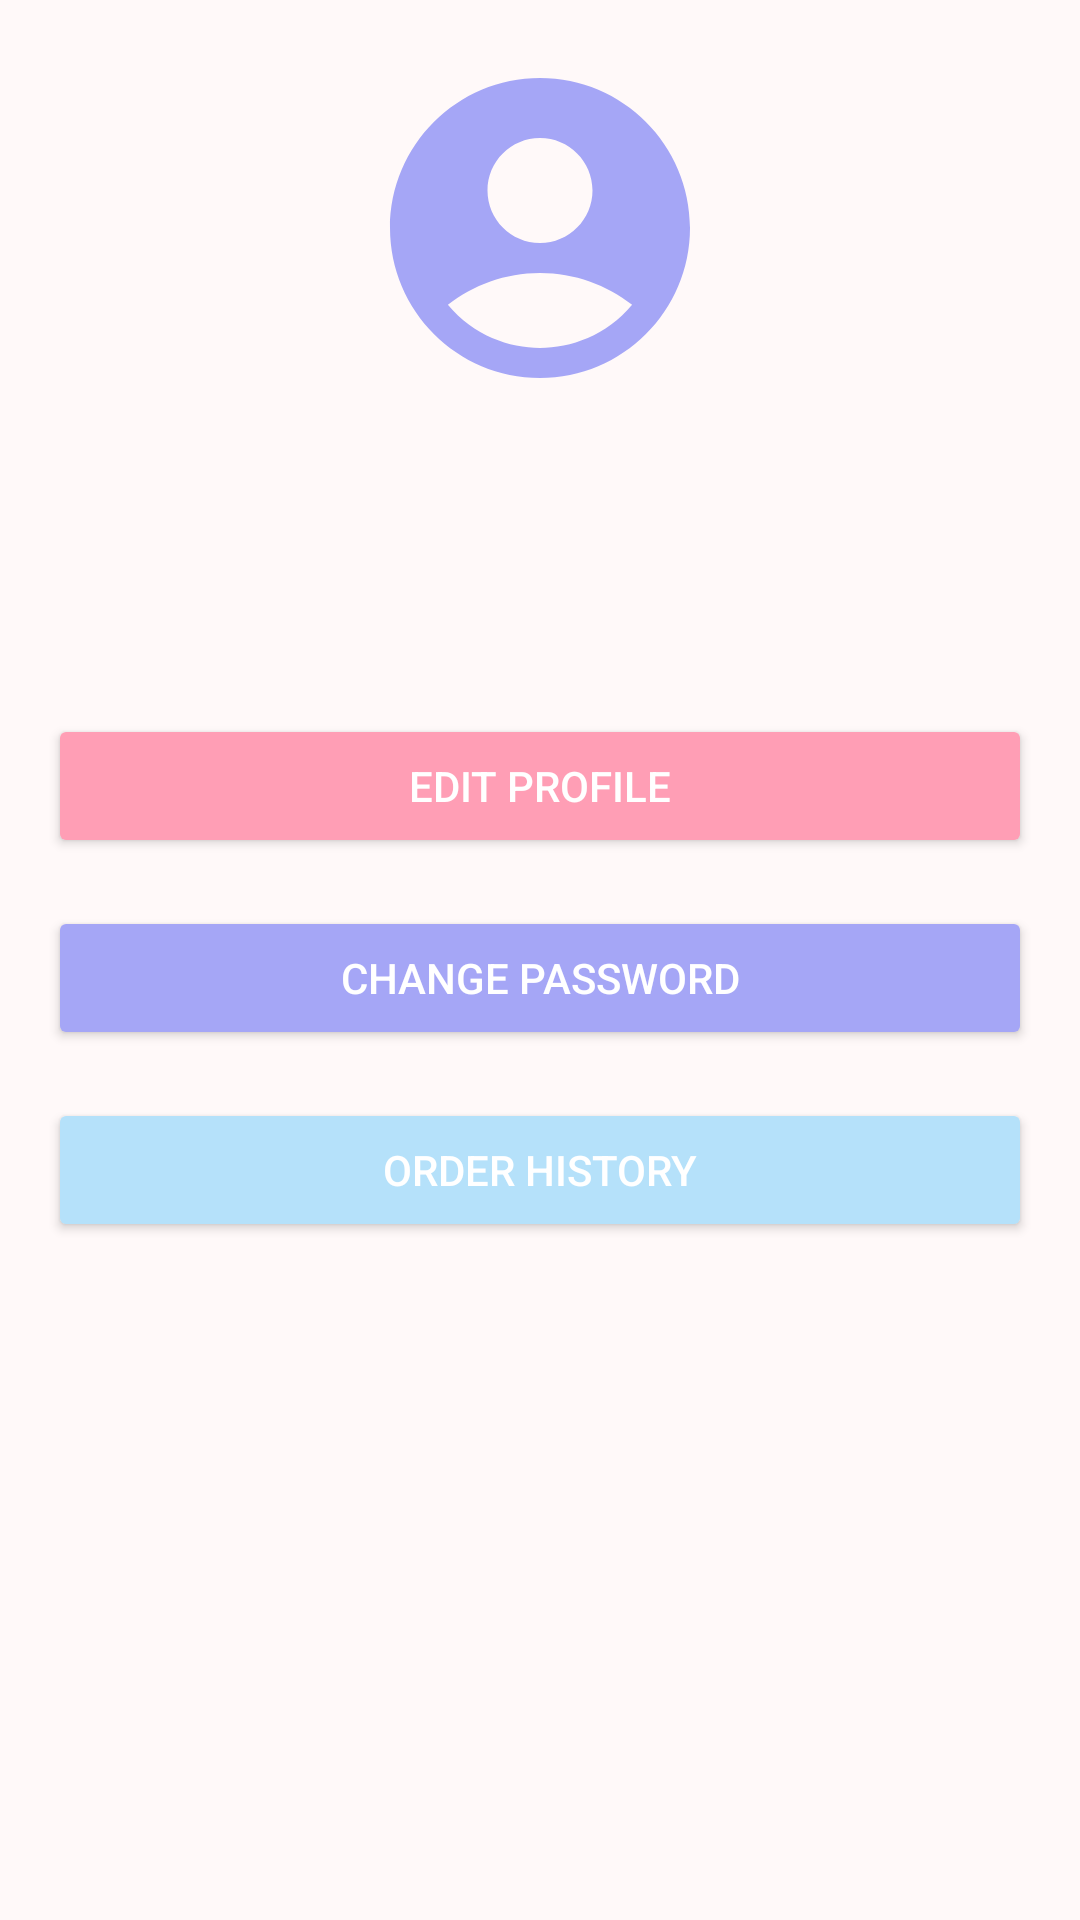

Icon click points for this 1080x1920 phone screenshot, format [x,y]:
profile: [540,228]
